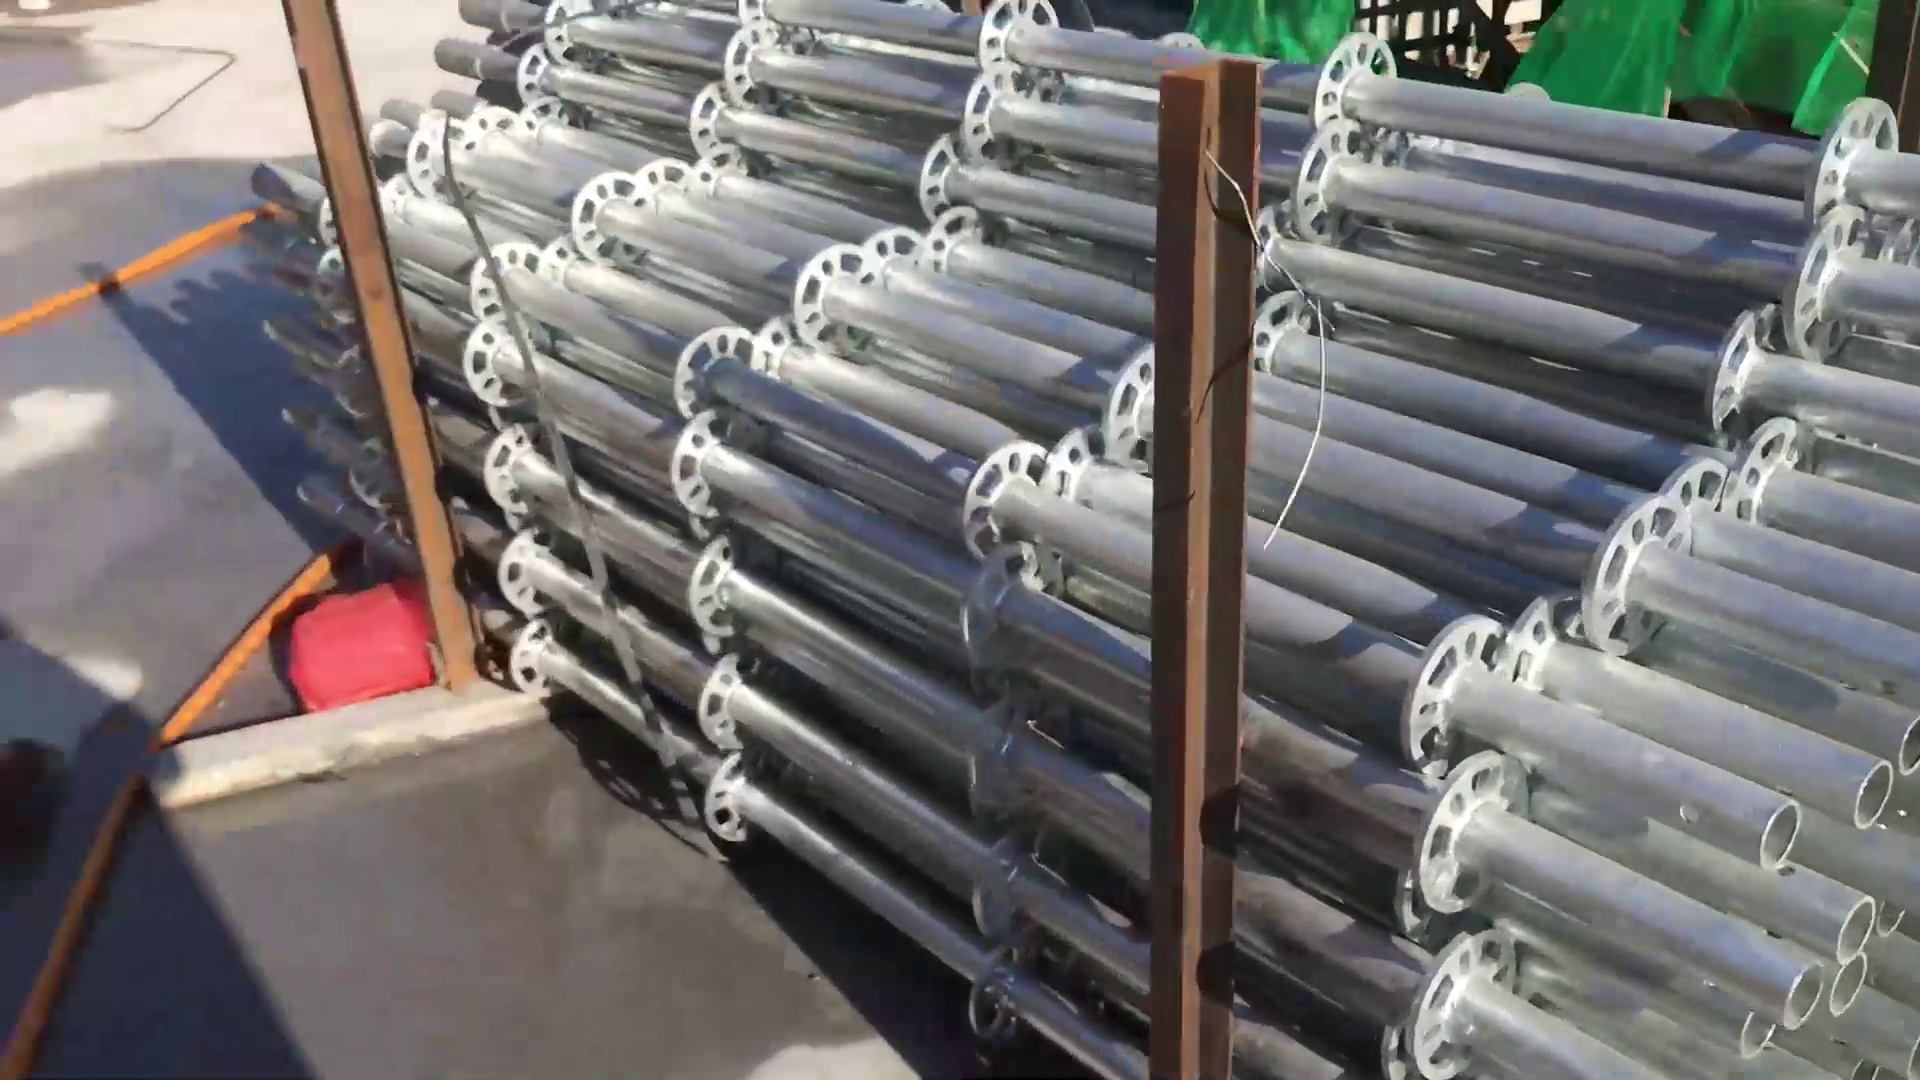scaffold: (227, 1, 1920, 1065)
